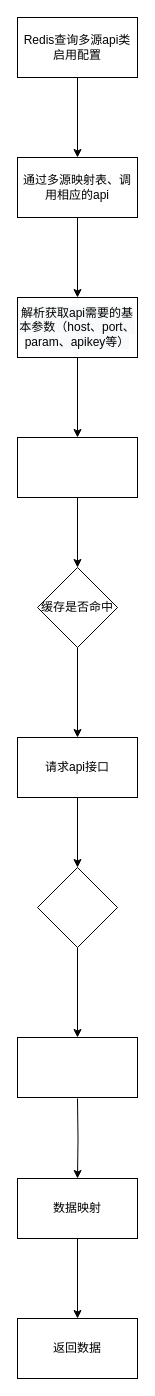
This 155x1396 diagram has some shape labels left out. Each missing label, with the centre of its shape:
写入redis缓存: point (77, 1067)
是否成功响应: point (77, 907)
查询redis缓存数据: point (77, 467)
